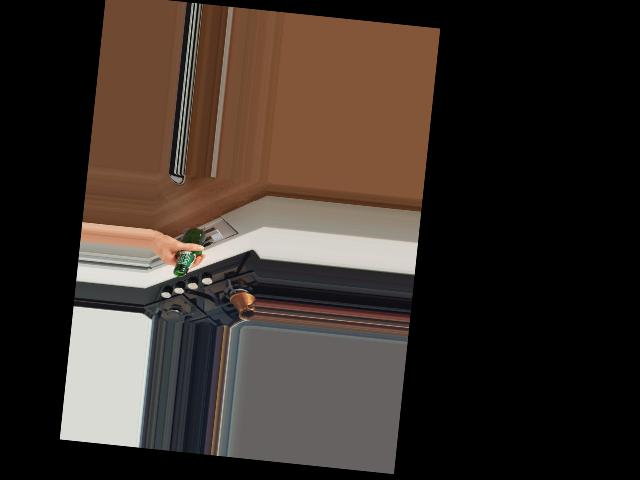beer: (172, 226, 205, 278)
